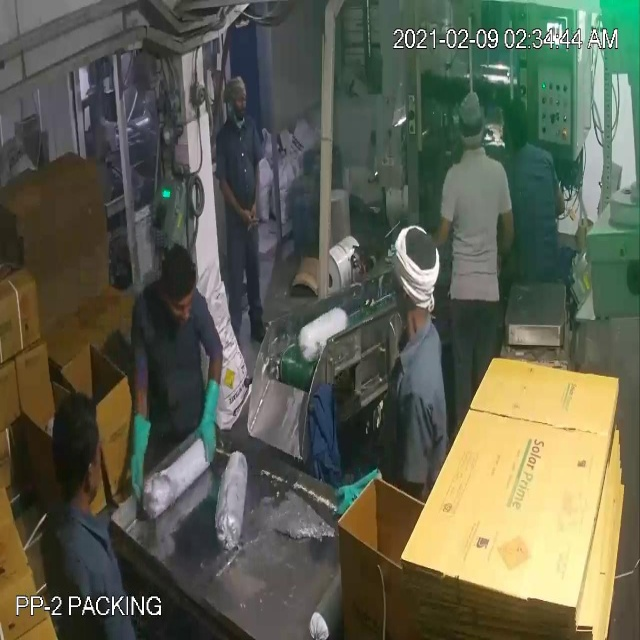Guantes: (188, 362, 235, 471), (111, 404, 157, 507)
Sin_guantes: (211, 168, 258, 235)
